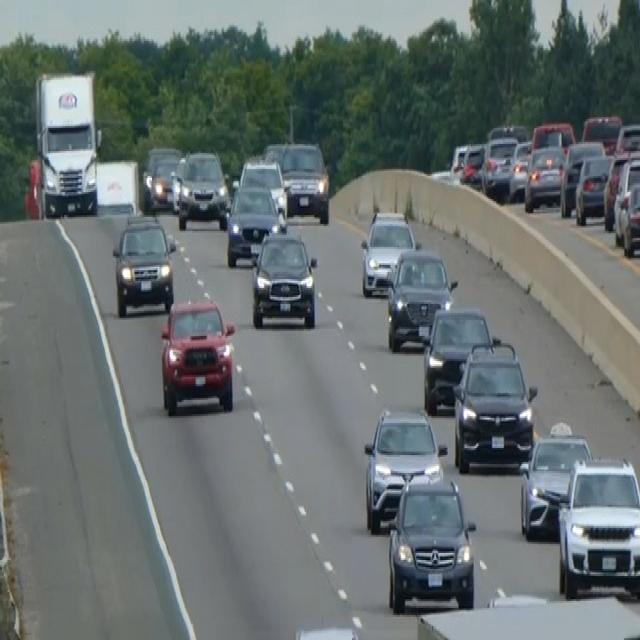car: (386, 469, 476, 614), (556, 453, 639, 599), (451, 339, 537, 473), (362, 404, 447, 534), (159, 295, 236, 416), (518, 422, 592, 540), (420, 304, 493, 414), (385, 245, 456, 352), (249, 227, 318, 329), (111, 214, 176, 316), (359, 208, 417, 297), (225, 180, 284, 266), (176, 148, 229, 230), (280, 139, 330, 222), (559, 139, 604, 217), (238, 154, 288, 220), (523, 142, 565, 212), (574, 153, 613, 226), (141, 144, 181, 212), (481, 133, 517, 199), (602, 150, 629, 230), (581, 112, 622, 155), (507, 137, 532, 201), (530, 119, 575, 153), (620, 176, 639, 256), (460, 140, 485, 187), (168, 151, 187, 212), (615, 119, 639, 157), (449, 142, 467, 178)
lorry: (26, 68, 103, 218)
truck: (415, 588, 639, 638)
